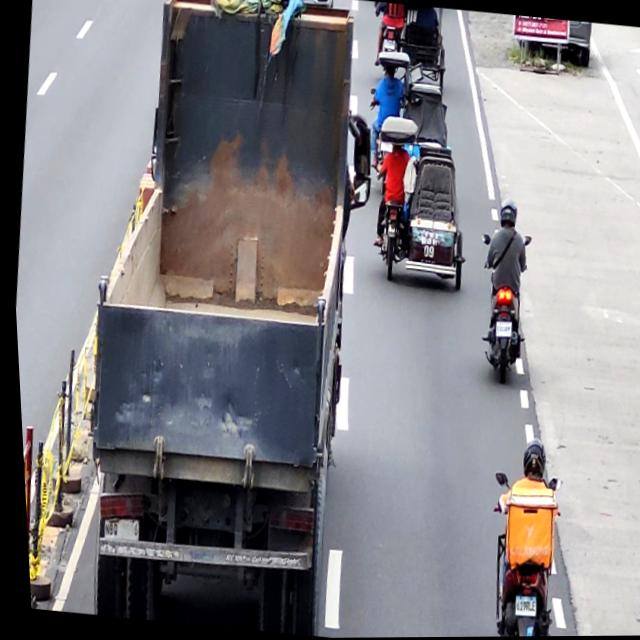License-Plate: (96, 518, 134, 542), (505, 594, 532, 621), (490, 321, 508, 341), (382, 37, 396, 53)
Motorcycle: (471, 467, 562, 637), (463, 231, 534, 388)
Tricycle: (362, 115, 476, 290), (364, 50, 454, 164), (368, 2, 452, 93)
Truck: (50, 0, 405, 640)
